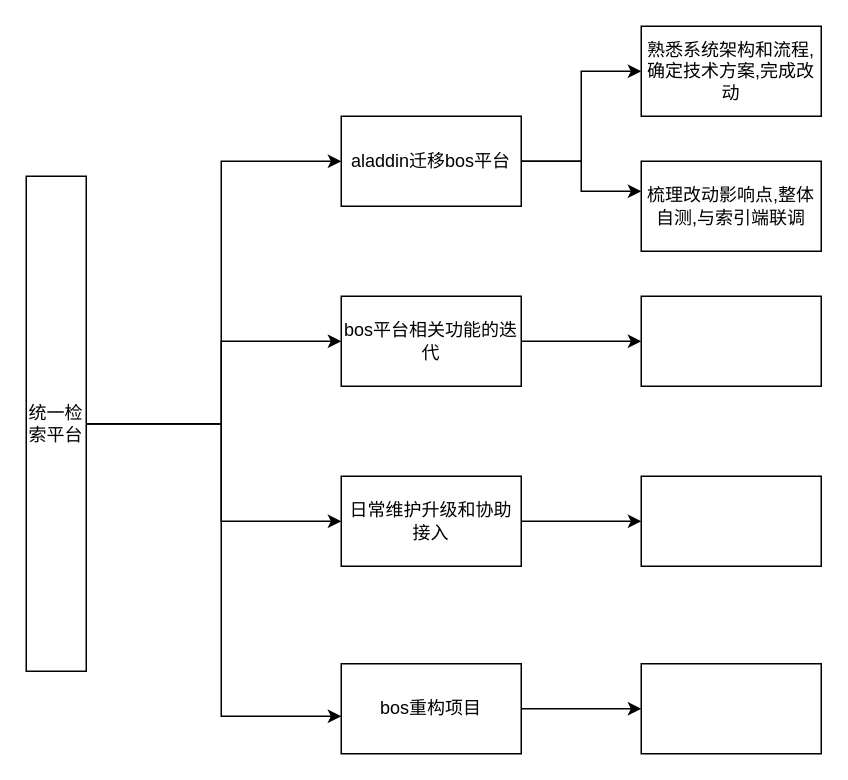
This 848x780 diagram has some shape labels left out. Here are the shapes that lost their labels. From the top down, the centre of each, then its label:
pixel 730 340: 增强备份offset功能和监控相关功能体系完善
pixel 730 520: 升级容器镜像,优化schema解决线上问题,协助应用扩容和排查构建中问题等
pixel 730 708: 梳理现状,交互升级,输出设计,快速开发
